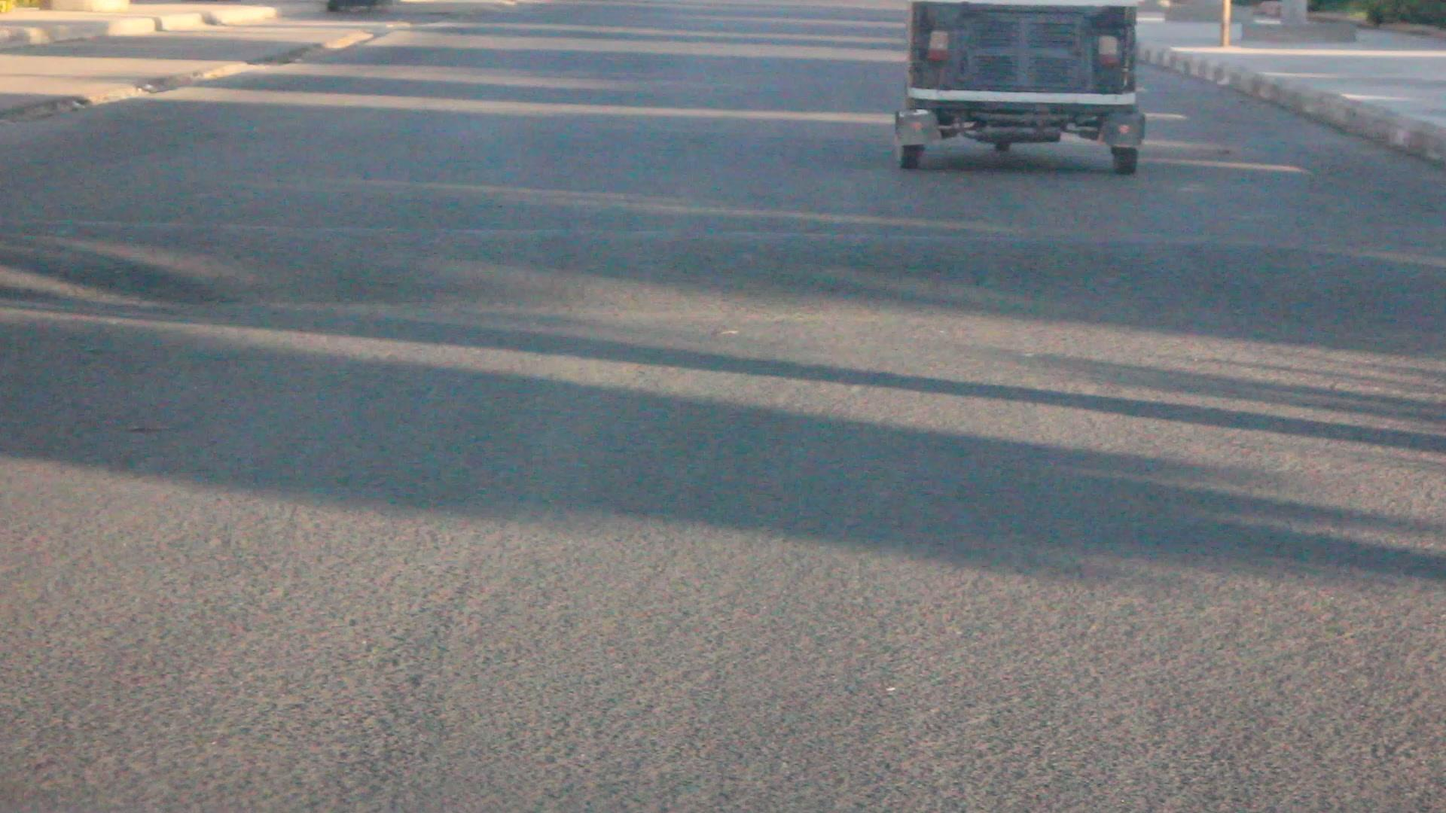Bump: (4, 207, 1446, 358)
